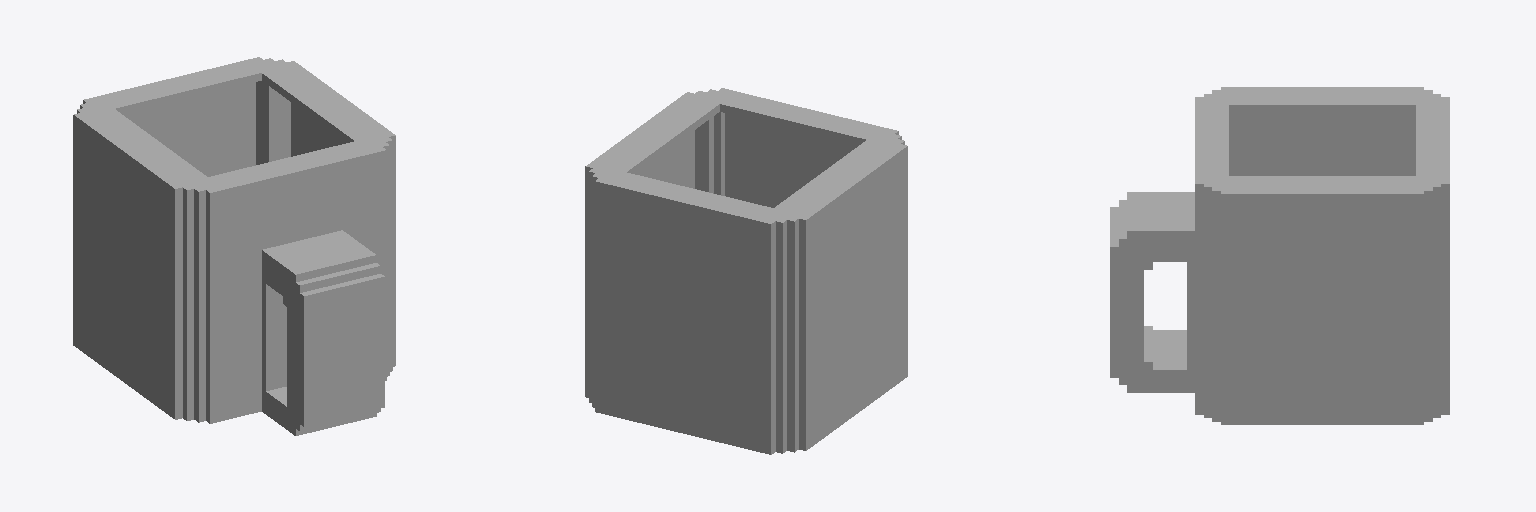
3 views of the same model, side by side, from view 1: azimuth 30°, elevation 25°; view 2: azimuth 150°, elevation 25°; view 3: azimuth 270°, elevation 25° (orthographic).
Visible parts, largest first — view 1: Office_Misc_Coffee_Mug; view 2: Office_Misc_Coffee_Mug; view 3: Office_Misc_Coffee_Mug.
Boxes of the visible parts, x1,y1,x2,y2 form: Office_Misc_Coffee_Mug: [73, 57, 395, 435]; Office_Misc_Coffee_Mug: [585, 88, 907, 454]; Office_Misc_Coffee_Mug: [1110, 87, 1449, 424].
Bounding box in the file's own units: 3 × 3 × 4.
1 materials, 1 textured.